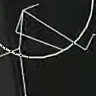hacks_2: (1, 3, 96, 96)
